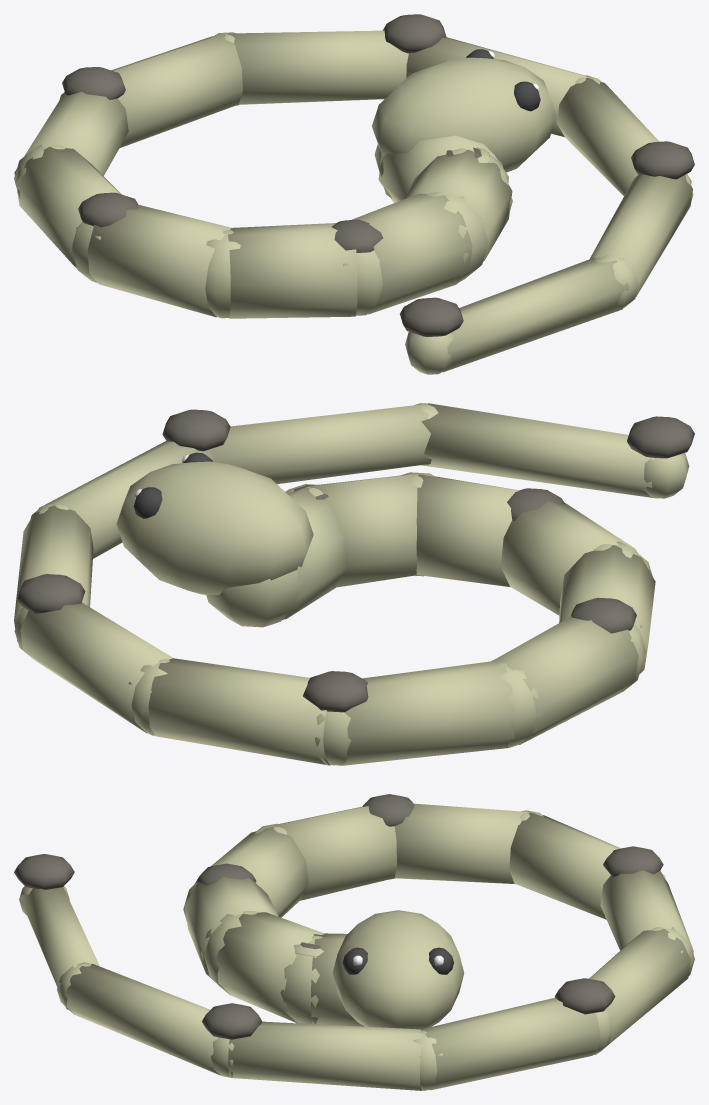
File: taiwan-beauty-snake.glb
3 views of the same model, one above another, from view 1: azimuth 30°, elevation 25°; view 2: azimuth 150°, elevation 25°; view 3: azimuth 270°, elevation 25° (orthographic). The views are drawn at different scales.
Parts seen in each view (by area): view 1: e, e.033; view 2: e, e.033; view 3: e, e.033.
Boxes of the visible parts, x1,y1,x2,y2 form: e: (14,14,694,374); e.033: (372,49,556,172); e: (14,403,694,765); e.033: (116,452,313,594); e: (14,794,694,1090); e.033: (332,910,464,1029).
Size of the model in its own units: 0.6422 by 0.1465 by 0.7389.
